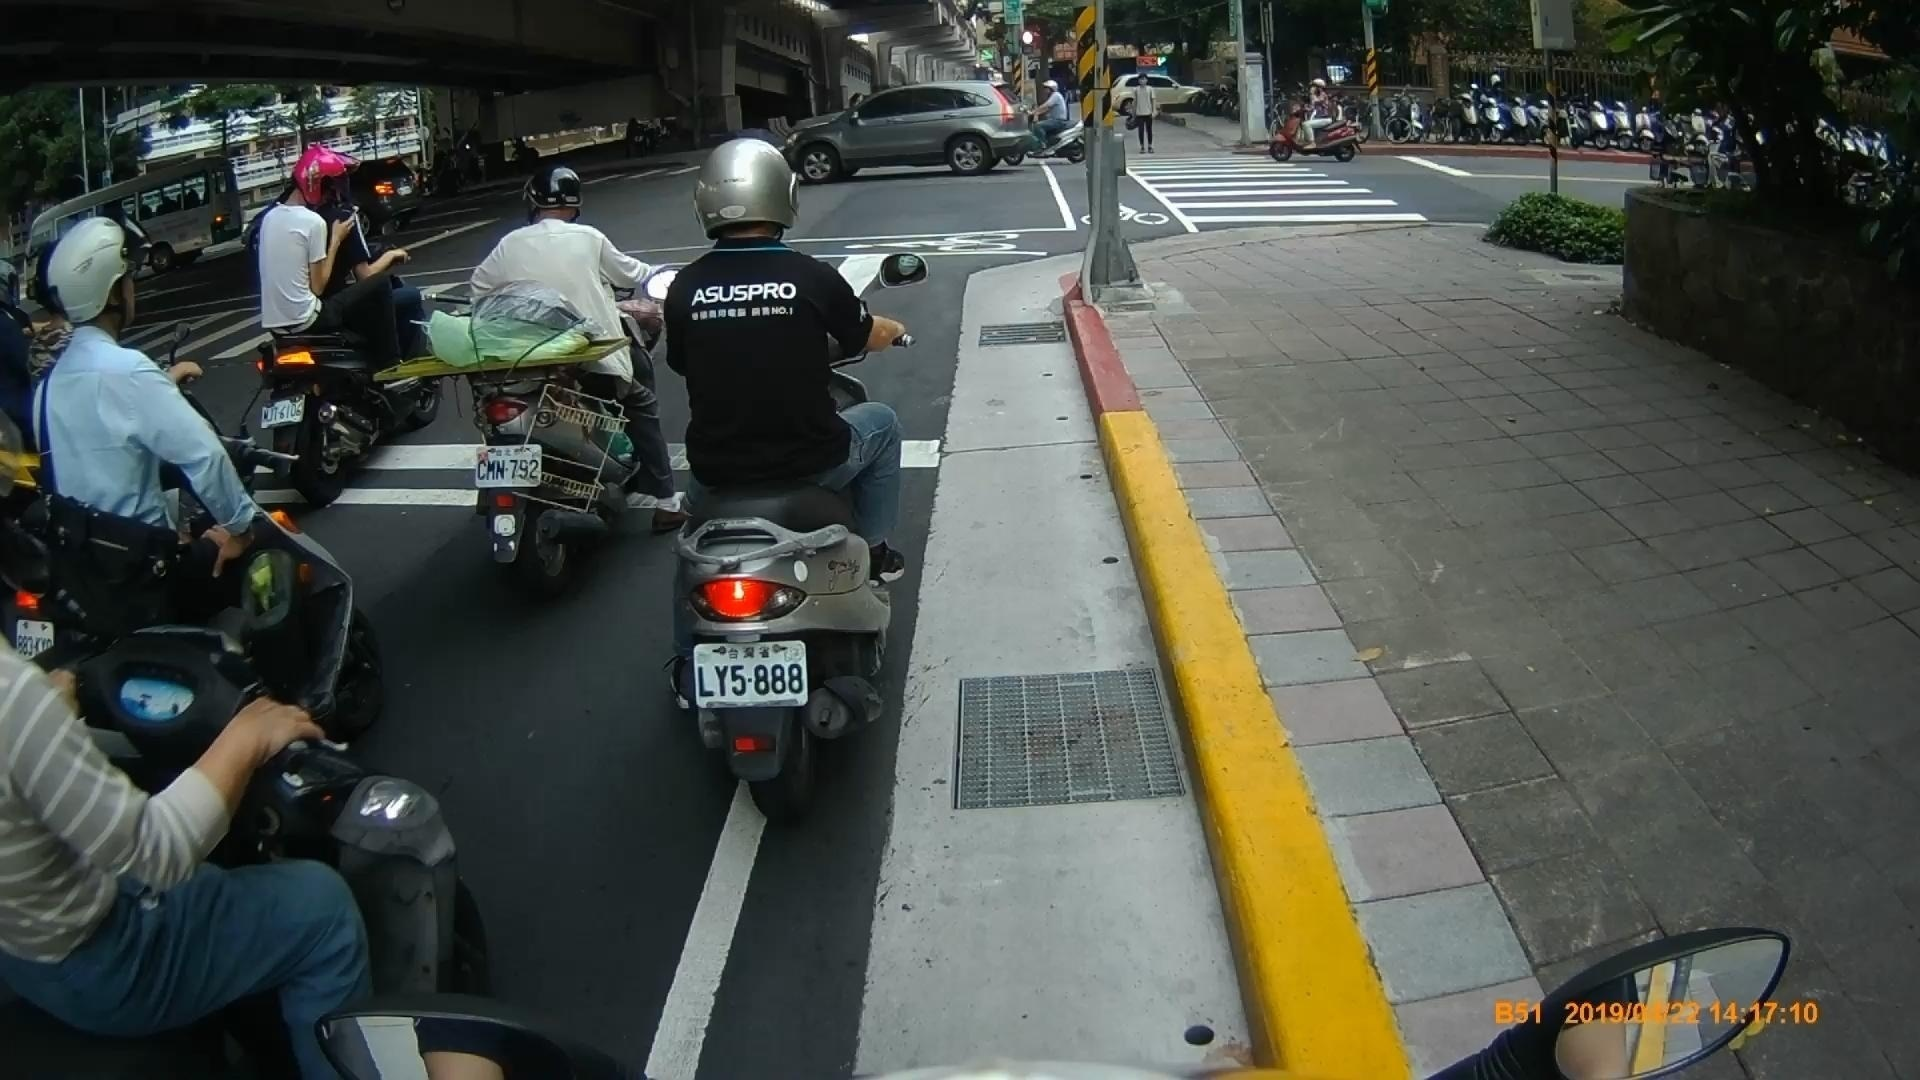License_plate: (694, 641, 810, 704), (473, 444, 549, 489)
